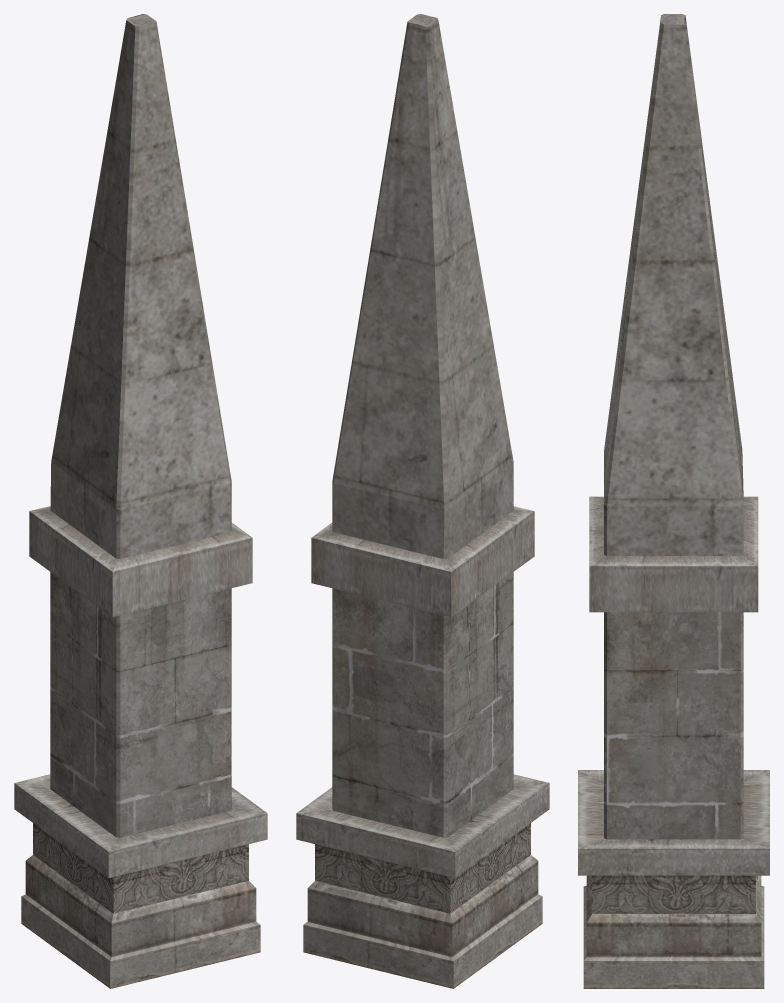
File: bg_lut_lucastle_churchunderprop04_sm_msj.FBX
3 views of the same model, side by side, from view 1: azimuth 30°, elevation 25°; view 2: azimuth 150°, elevation 25°; view 3: azimuth 270°, elevation 25° (orthographic).
Parts seen in each view (by area): view 1: bg_lut_lucastle_churchunderprop04_sm_msj; view 2: bg_lut_lucastle_churchunderprop04_sm_msj; view 3: bg_lut_lucastle_churchunderprop04_sm_msj.
Part boxes in pixels (x1,y1,x2,y2): bg_lut_lucastle_churchunderprop04_sm_msj: (14, 14, 267, 988); bg_lut_lucastle_churchunderprop04_sm_msj: (296, 14, 549, 988); bg_lut_lucastle_churchunderprop04_sm_msj: (578, 14, 769, 988).
Bounding box in the file's own units: 69.18 × 382 × 71.14.
